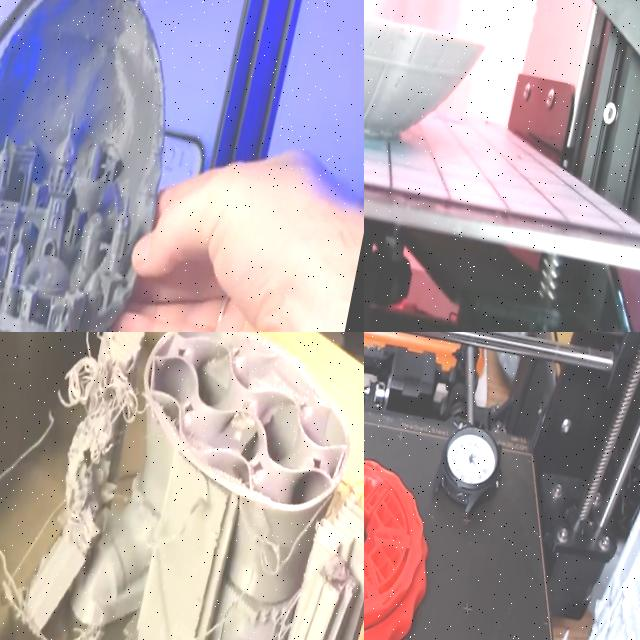spaghetti: (127, 381, 364, 640), (21, 332, 161, 530), (63, 608, 110, 640)
